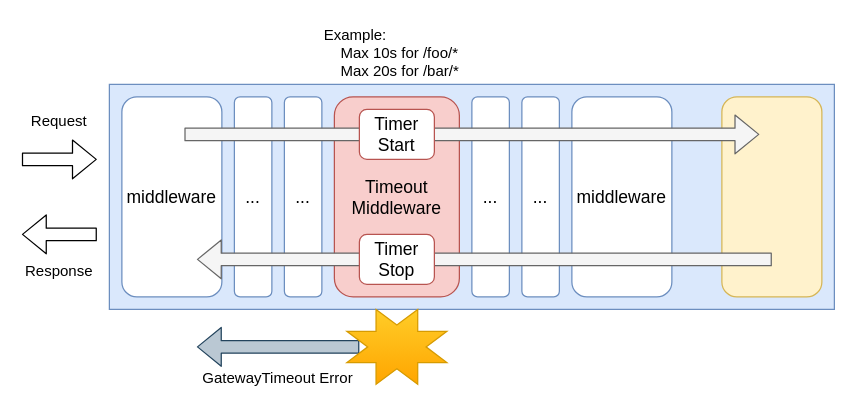
This 856x418 diagram has some shape labels left out. Here are the shapes that lost their labels. From the top down, the centre of each, then its label:
At (x=771, y=196): "Handler".
At (x=396, y=346): "Timeout !!".
